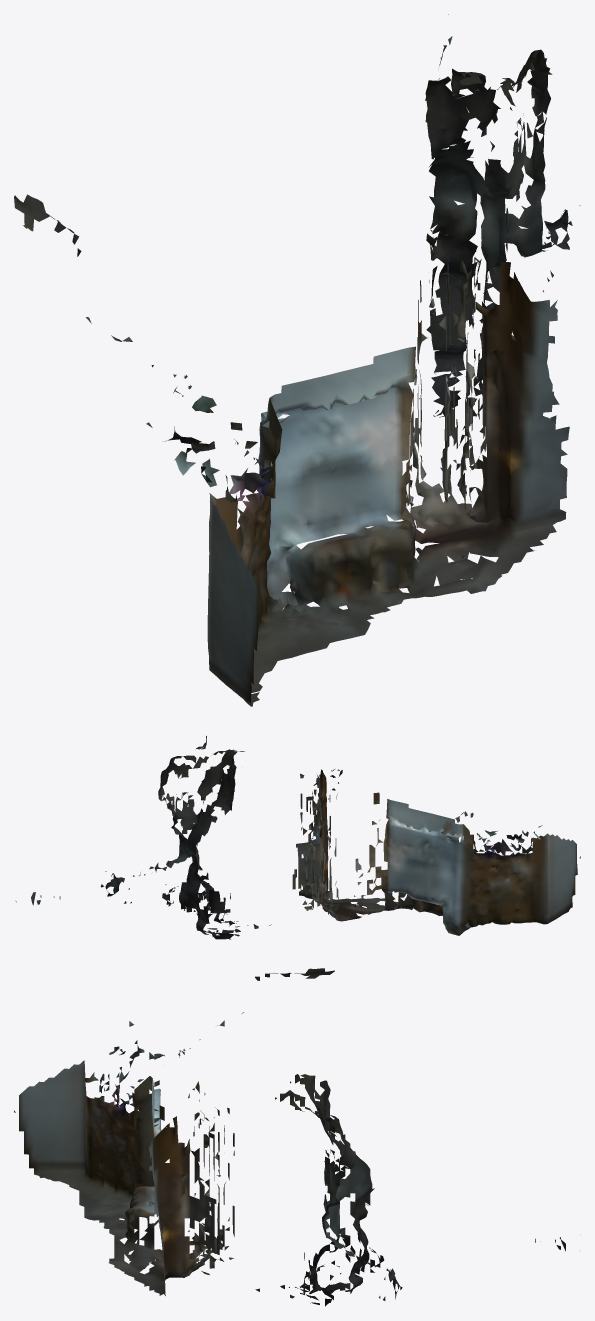
3 renders of one model, top to bottom at view 1: azimuth 30°, elevation 25°; view 2: azimuth 150°, elevation 25°; view 3: azimuth 270°, elevation 25°, orthographic. The views are drawn at different scales.
Size of the model in its own units: 478 by 255 by 565.
